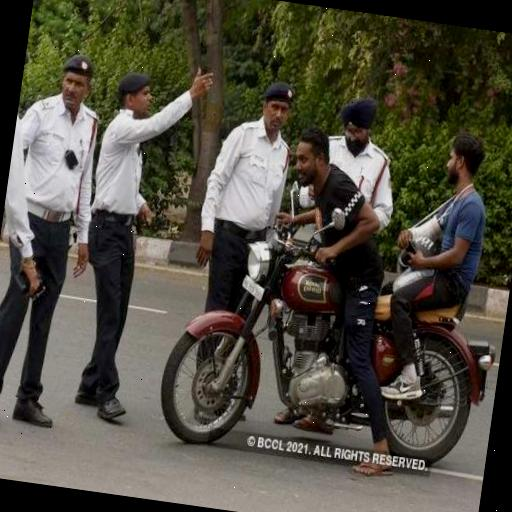helmet: (262, 111, 380, 233)
